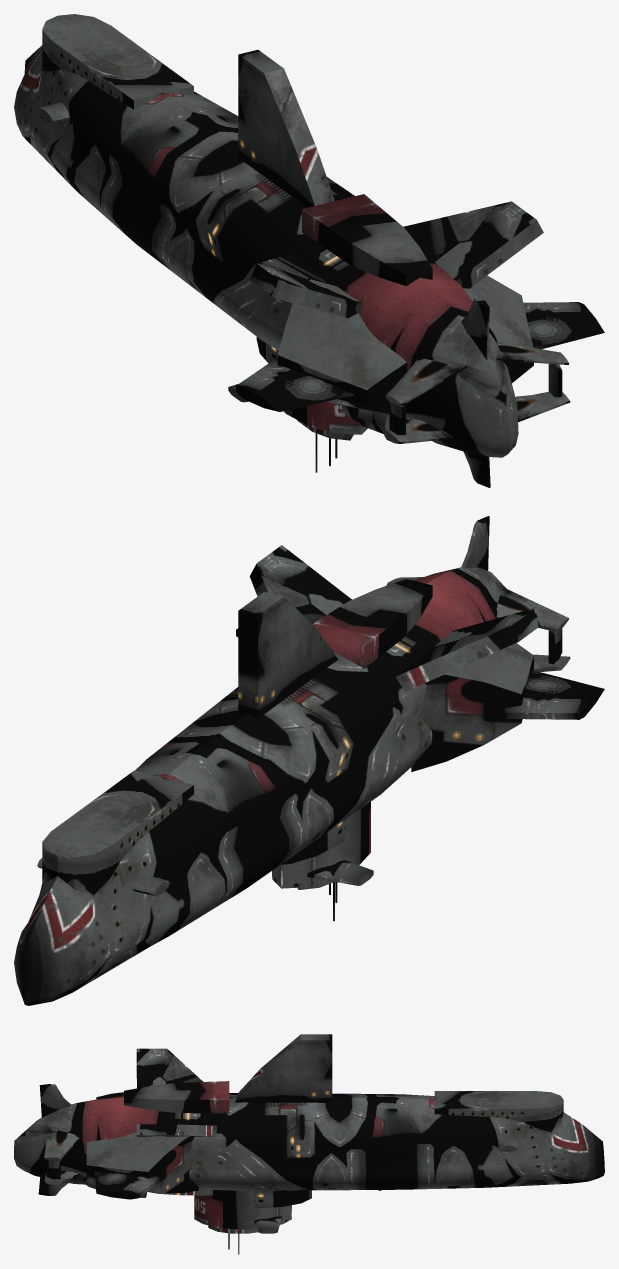
Rendered from TypeVII.fbx.
The picture shows the model from 3 angles, top to bottom: view 1: azimuth 30°, elevation 25°; view 2: azimuth 150°, elevation 25°; view 3: azimuth 270°, elevation 25°; orthographic projection. The views are drawn at different scales.
Parts seen in each view (by area): view 1: PipelineFBX; view 2: PipelineFBX; view 3: PipelineFBX.
Part boxes in pixels (left/top/right/bottom): PipelineFBX: left=14, top=14, right=604, bottom=487; PipelineFBX: left=14, top=516, right=604, bottom=1005; PipelineFBX: left=14, top=1034, right=604, bottom=1254.
Bounding box in the file's own units: 179 × 180 × 440.
1 material, 1 textured.
